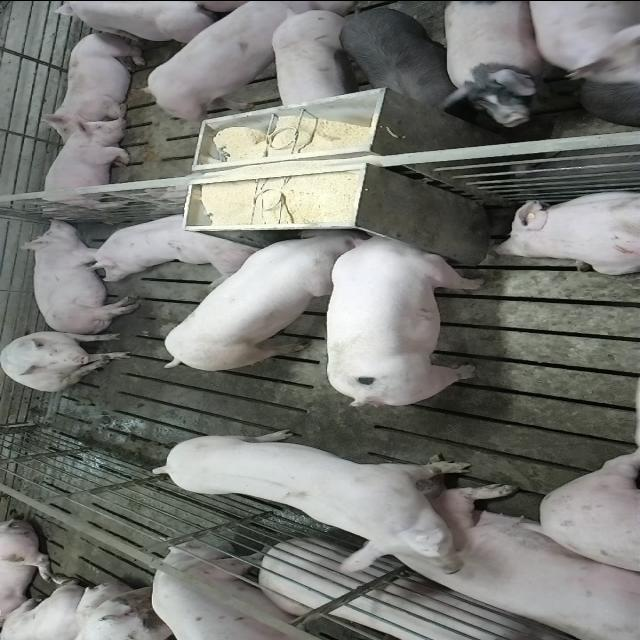Feeding: (154, 222, 382, 372), (319, 228, 489, 408)
Lateral_lying: (14, 215, 140, 334)
Sitting: (0, 329, 131, 390)
Standing: (152, 427, 484, 577), (146, 542, 357, 640), (430, 0, 540, 125), (335, 0, 457, 111), (264, 2, 344, 124), (527, 0, 640, 84), (52, 0, 227, 40)
Sternal_lying: (362, 487, 640, 640), (487, 182, 640, 276), (76, 209, 262, 285), (34, 114, 152, 218), (40, 30, 146, 140)
